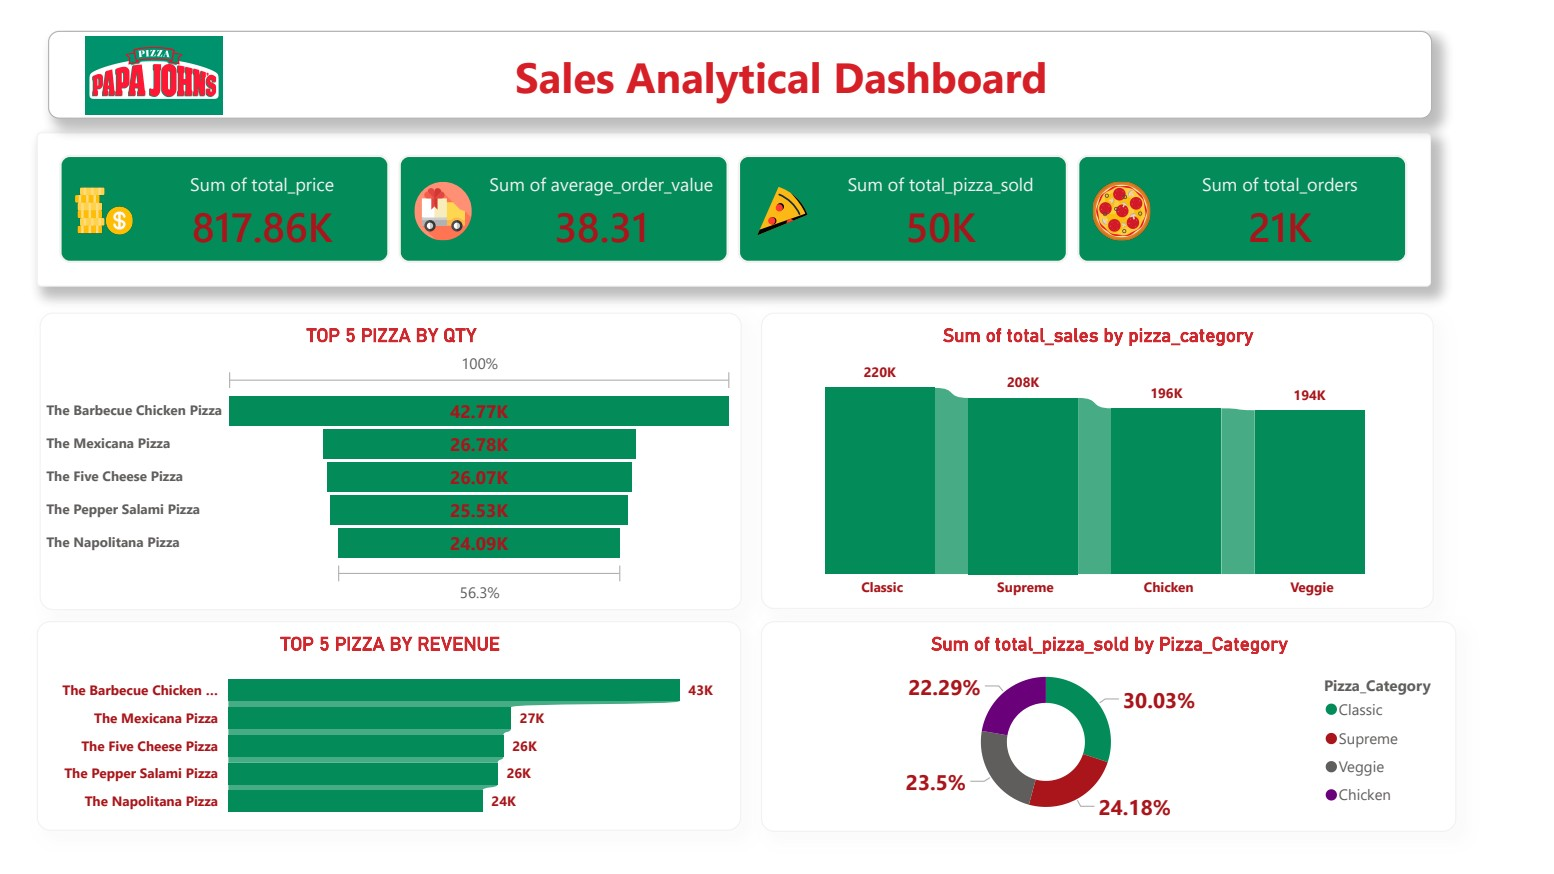

The page's visual inventory and layout, read from the dashboard file:
{"tool":"powerbi","page":{"name":"Page 1","canvas":[1280,720],"ordinal":0},"visuals":[{"type":"textbox","box":[32.3,0,1227.8,78.3],"z":0,"group":"g1"},{"type":"cardVisual","fields":{"Data":["Sum(TOTAL_SALES.total_price)","Sum(avg_order_byorder.average_order_value)","Sum(TOTAL_PIZZA_SOLD_VIEW.total_pizza_sold)","Sum(TOTAL_ORDERS_VIEW.total_orders)"]},"box":[21.7,90,1236.7,136.7],"z":0},{"type":"image","box":[31.7,4.9,188.2,68.5],"z":1000,"group":"g1"},{"type":"columnChart","fields":{"Category":["SALES_BY_PIZZA_CATEGORY_PCT.pizza_category"],"Y":["Sum(SALES_BY_PIZZA_CATEGORY_PCT.total_sales)"]},"box":[663.3,250,596.7,263.3],"z":1000},{"type":"donutChart","fields":{"Category":["TOTAL_SOLD_PIZZA_BY_PIZZA_CATEGORY.Pizza_Category"],"Y":["Sum(TOTAL_SOLD_PIZZA_BY_PIZZA_CATEGORY.total_pizza_sold)"]},"box":[663.3,523.3,616.7,186.7],"z":2000},{"type":"funnel","title":"TOP 5 PIZZA BY QTY","fields":{"Category":["Bottom5_pizza_byrevenue.pizza_Name"],"Y":["Sum(Bottom5_pizza_byrevenue.total_sales)"]},"box":[23.8,250,622.5,263.8],"z":3000},{"type":"barChart","title":"TOP 5 PIZZA BY REVENUE","fields":{"Category":["TOP5_pizza_byrevenue.pizza_Name"],"Y":["Sum(TOP5_pizza_byrevenue.total_sales)"]},"box":[21.2,523.8,625,186.2],"z":4000},{"type":"group","id":"g1","title":"Group 1","box":[31.7,0,1228.3,78.3],"z":14002}]}

Visuals, with their boxes in screenshot pixels (x1, y1, x2, y2), scaled from the page's 1280x720 canvas onto the 1554x874 screenshot:
textbox: locate(39, 0, 1530, 95)
cardVisual - Sum(TOTAL_SALES.total_price) x Sum(avg_order_byorder.average_order_value): locate(26, 109, 1528, 275)
image: locate(38, 6, 267, 89)
columnChart - SALES_BY_PIZZA_CATEGORY_PCT.pizza_category x Sum(SALES_BY_PIZZA_CATEGORY_PCT.total_sales): locate(805, 303, 1530, 623)
donutChart - TOTAL_SOLD_PIZZA_BY_PIZZA_CATEGORY.Pizza_Category x Sum(TOTAL_SOLD_PIZZA_BY_PIZZA_CATEGORY.total_pizza_sold): locate(805, 635, 1553, 862)
"TOP 5 PIZZA BY QTY" funnel: locate(29, 303, 785, 624)
"TOP 5 PIZZA BY REVENUE" barChart: locate(26, 636, 785, 862)
"Group 1" group: locate(38, 0, 1530, 95)
